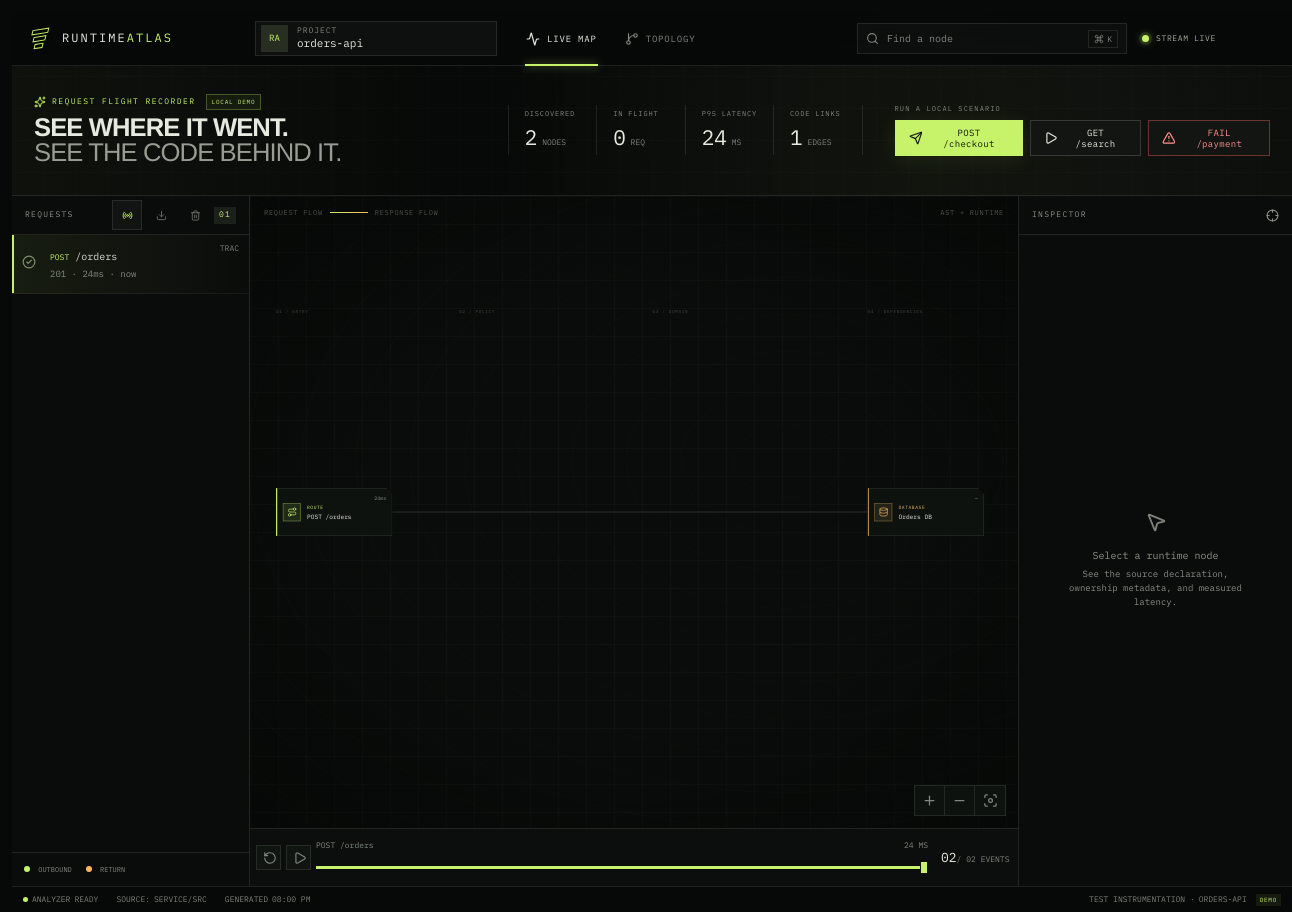
Test case: Runtime Atlas workspace › switches between live evidence and the static topology
Step 1. Click the button "TOPOLOGY" → (660, 38), box x1=611 y1=12 x2=709 y2=65
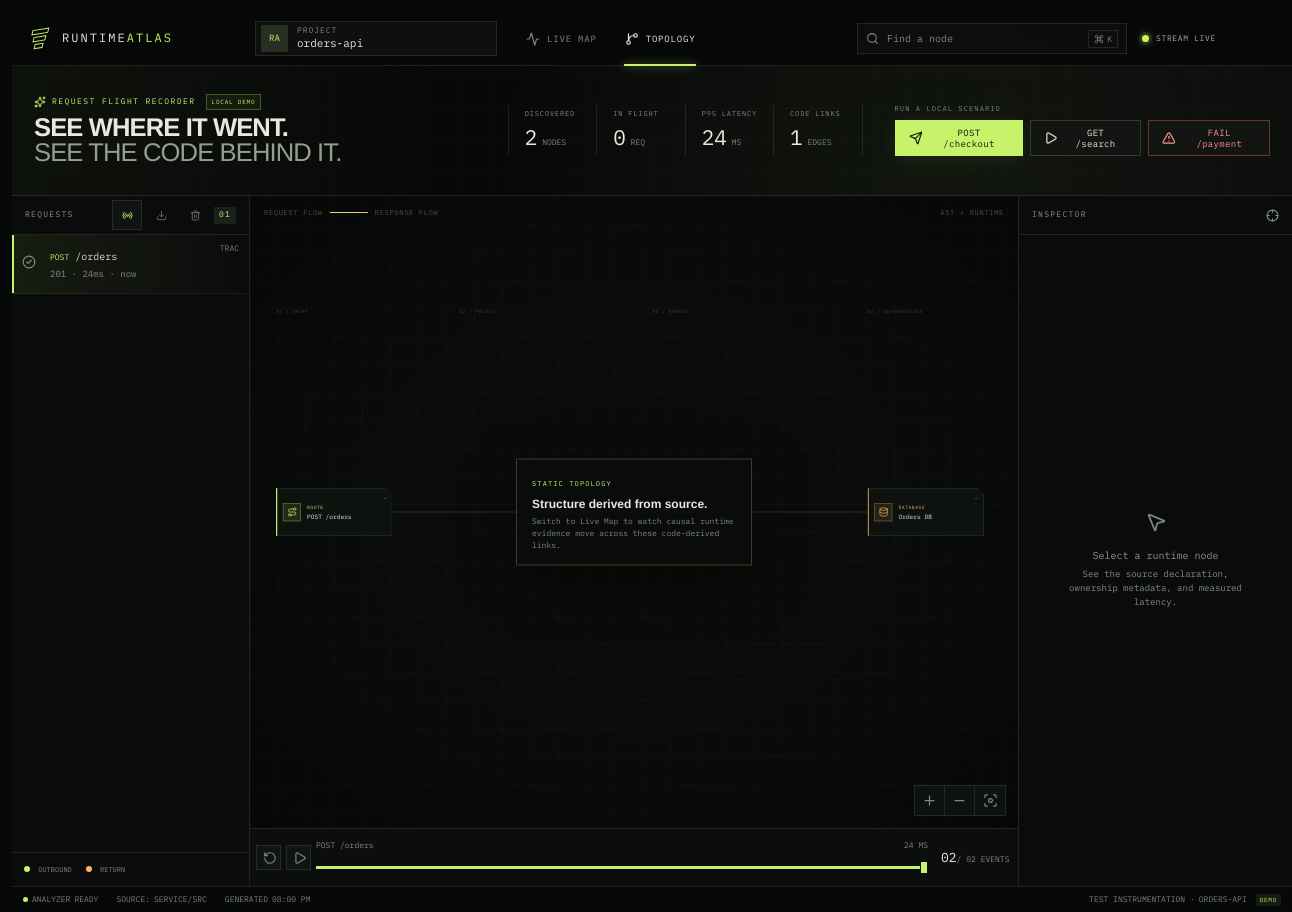
Expected: the text "STATIC TOPOLOGY" is shown, x1=532 y1=478 x2=612 y2=488
Step 2. Click the button "LIVE MAP" → (561, 38), box x1=512 y1=12 x2=611 y2=65
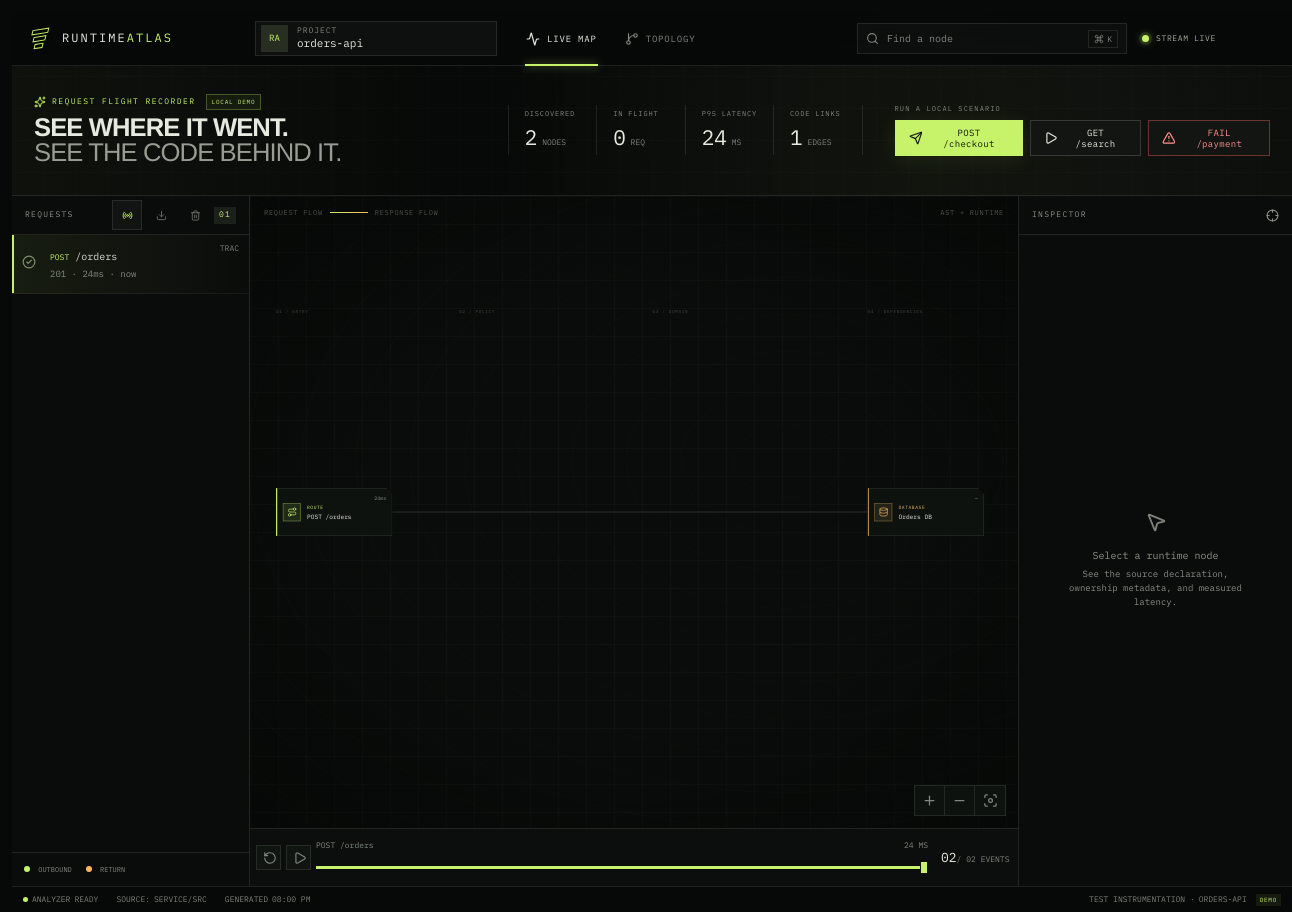
Expected: the text "STATIC TOPOLOGY" is gone
